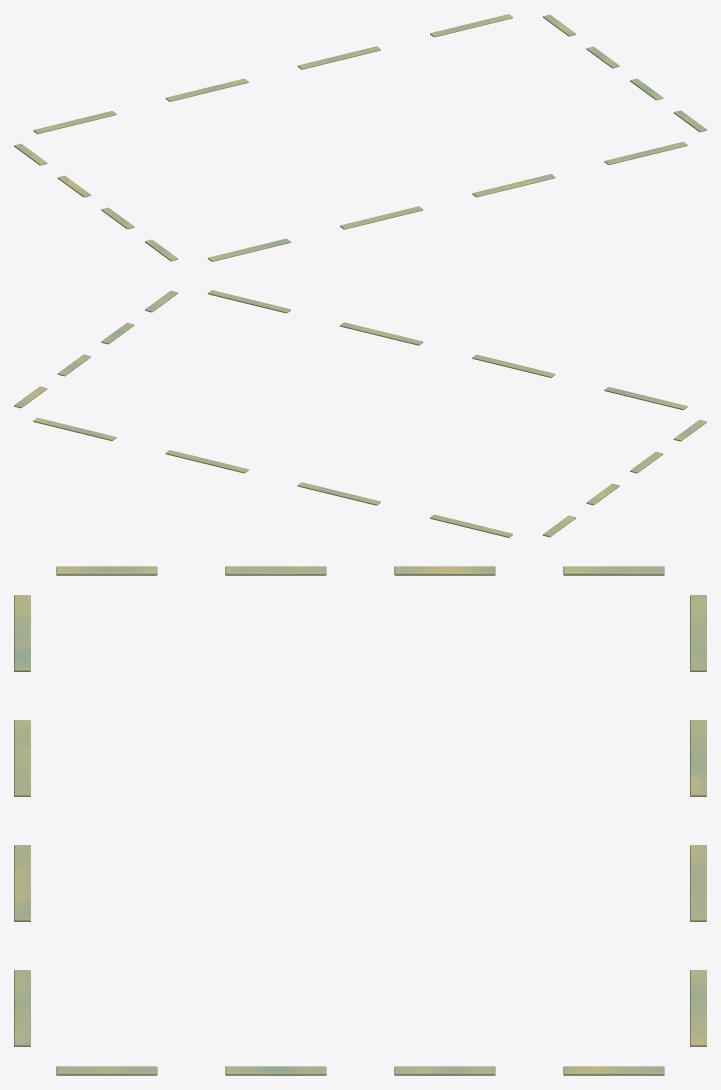
The model's file is base_zone_frame_glow.glb.
3 renders of one model, top to bottom at view 1: azimuth 30°, elevation 25°; view 2: azimuth 150°, elevation 25°; view 3: azimuth 270°, elevation 25°, orthographic. The views are drawn at different scales.
Parts seen in each view (by area): view 1: base_zone_frame_glow; view 2: base_zone_frame_glow; view 3: base_zone_frame_glow.
Part boxes in pixels (x1,y1,x2,y2): base_zone_frame_glow: [14, 14, 706, 261]; base_zone_frame_glow: [14, 290, 706, 537]; base_zone_frame_glow: [14, 566, 706, 1075].
Bounding box in the file's own units: 5.68 × 0.015 × 3.28.
Materials: 1 (1 with a texture image).
